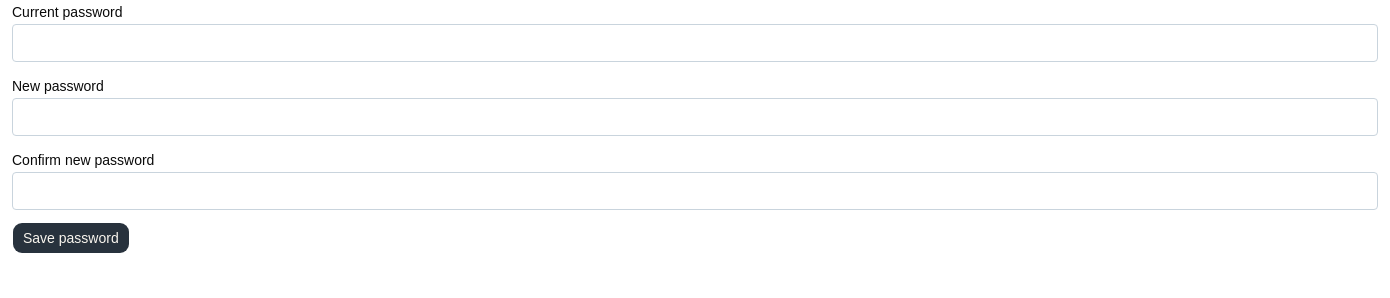
Test case: rejects when confirm doesn't match new
Type "current-pw-123" into the password field labelled "Current password".
click(695, 43); type("current-pw-123")  # box [12, 24, 1378, 62]
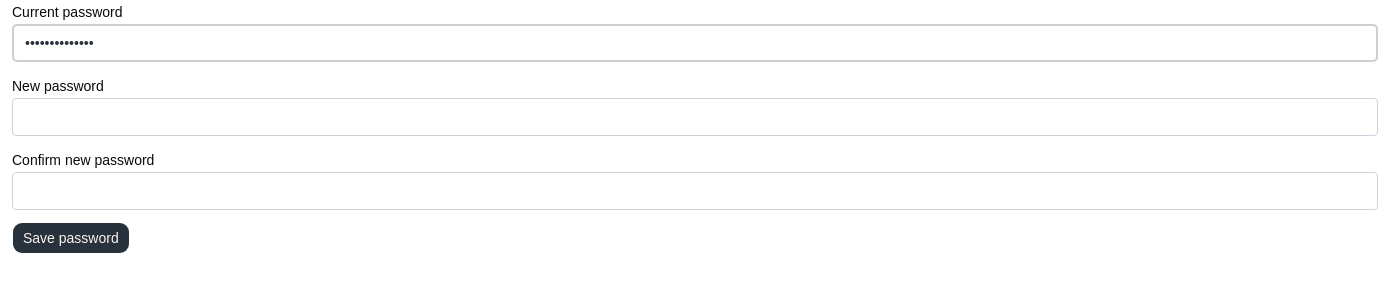
Type "new-password-1" into the password field labelled "New password".
click(695, 117); type("new-password-1")  # box [12, 98, 1378, 136]
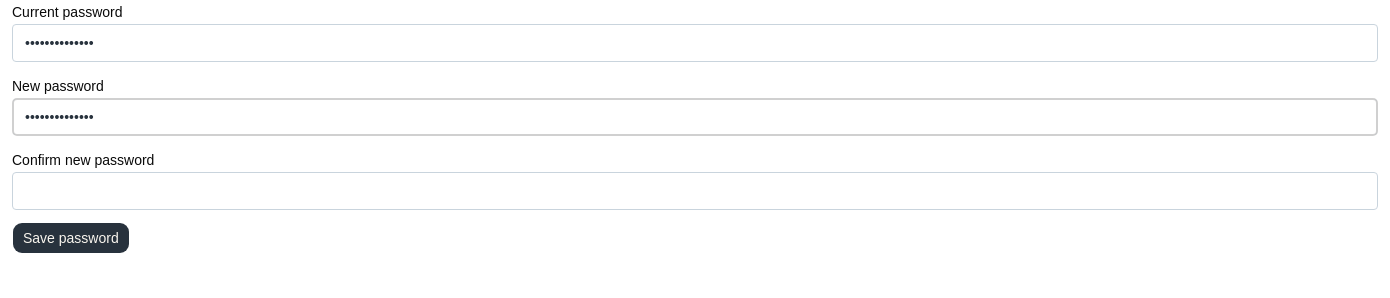
Type "new-password-2" into the password field labelled "Confirm new password".
click(695, 191); type("new-password-2")  # box [12, 172, 1378, 210]
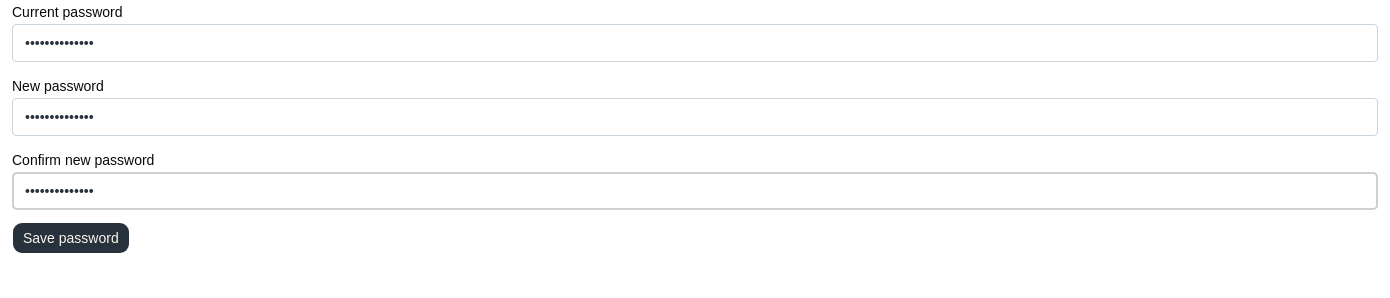
Click the button "Save password".
click(71, 238)  # box [12, 222, 130, 254]
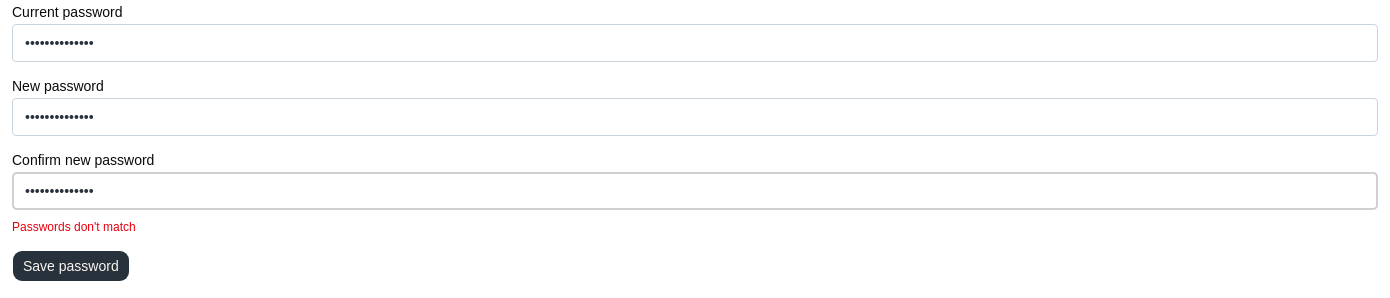
Check: the text "Passwords don't match" is shown, box [12, 220, 136, 234]
